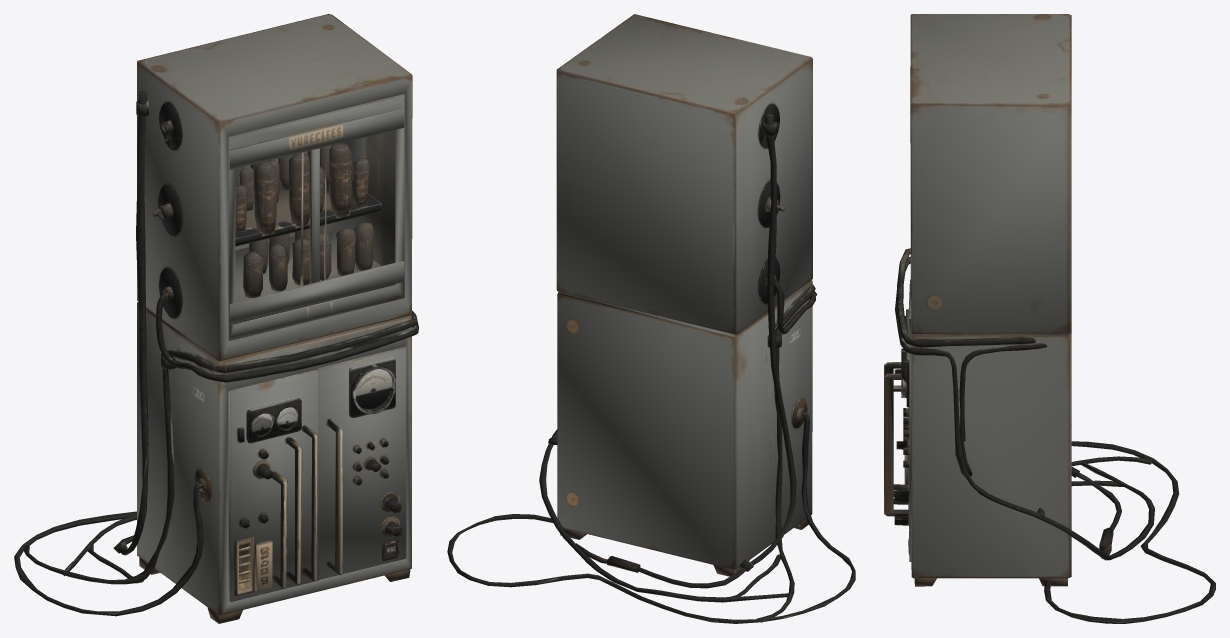
File: transmitter.glb
3 renders of one model, left to right at view 1: azimuth 30°, elevation 25°; view 2: azimuth 150°, elevation 25°; view 3: azimuth 270°, elevation 25°, orthographic. The views are drawn at different scales.
Size of the model in its own units: 0.7558 by 0.9521 by 0.5923.
1 material, 1 textured.
